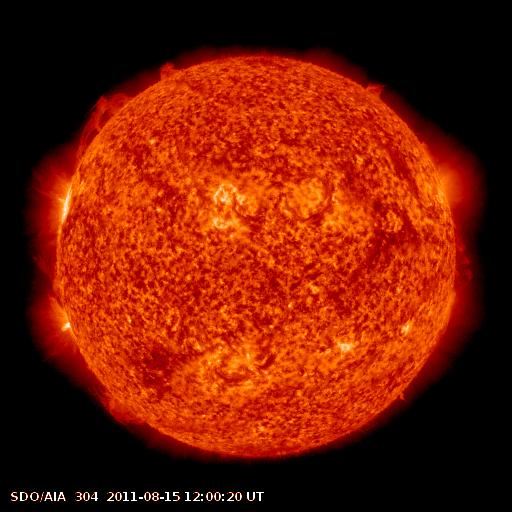prominence: (70, 85, 139, 161), (90, 373, 148, 432), (449, 221, 482, 297), (31, 229, 67, 298), (355, 66, 395, 112), (151, 47, 190, 89)
